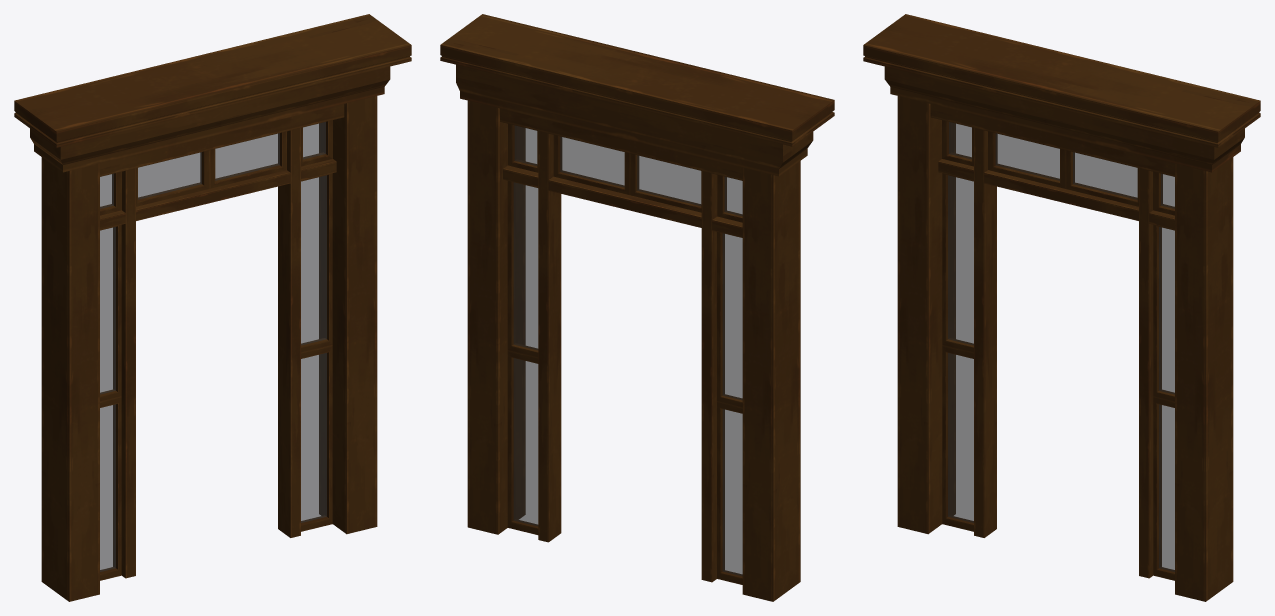
Rendered from door_frame_wooden.glb.
The picture shows the model from 3 angles, left to right: view 1: azimuth 30°, elevation 25°; view 2: azimuth 150°, elevation 25°; view 3: azimuth 330°, elevation 25°; orthographic projection.
Visible parts, largest first — view 1: DoorFrame_Wooden; view 2: DoorFrame_Wooden; view 3: DoorFrame_Wooden.
Part boxes in pixels (left/top/right/bottom): DoorFrame_Wooden: left=14, top=14, right=411, bottom=601; DoorFrame_Wooden: left=440, top=14, right=834, bottom=601; DoorFrame_Wooden: left=863, top=14, right=1260, bottom=601.
Bounding box in the file's own units: 2.3 × 3 × 0.4778.
Materials: 2 (1 with a texture image).
